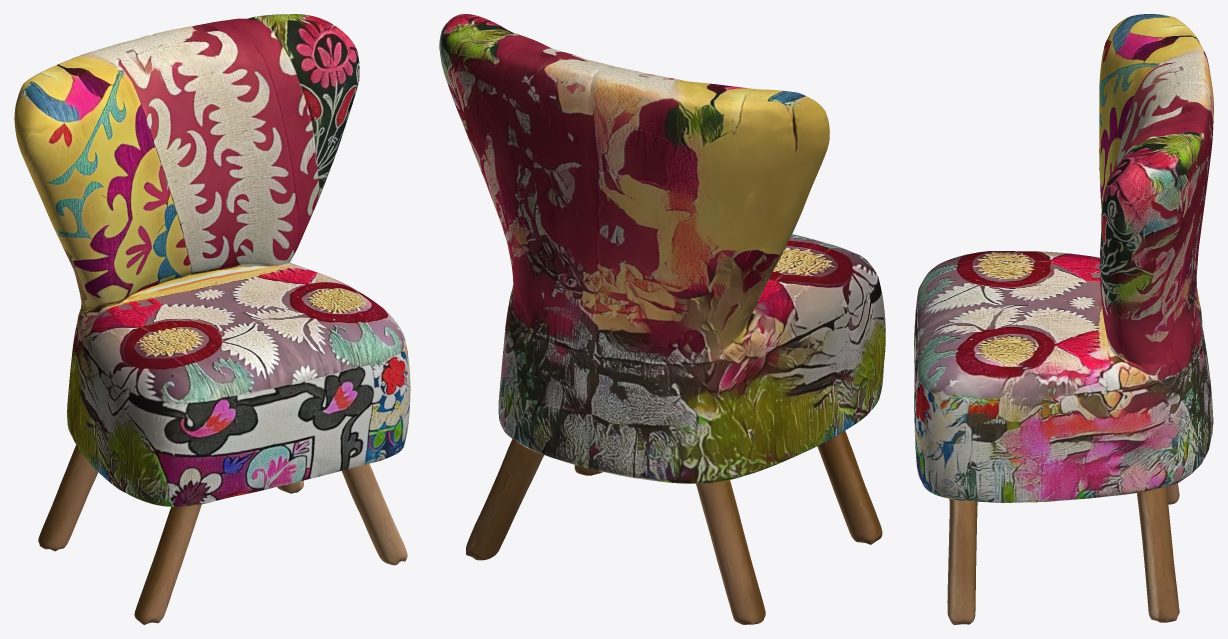
The picture shows the model from 3 angles, left to right: view 1: azimuth 30°, elevation 25°; view 2: azimuth 150°, elevation 25°; view 3: azimuth 270°, elevation 25°; orthographic projection. The views are drawn at different scales.
Parts seen in each view (by area): view 1: model; view 2: model; view 3: model.
Boxes of the visible parts, x1=… form: model: x1=14, y1=14, x2=410, y2=624; model: x1=439, y1=14, x2=885, y2=624; model: x1=914, y1=14, x2=1213, y2=624.
Size of the model in its own units: 0.6935 by 0.93 by 0.5285.
1 material, 1 textured.
